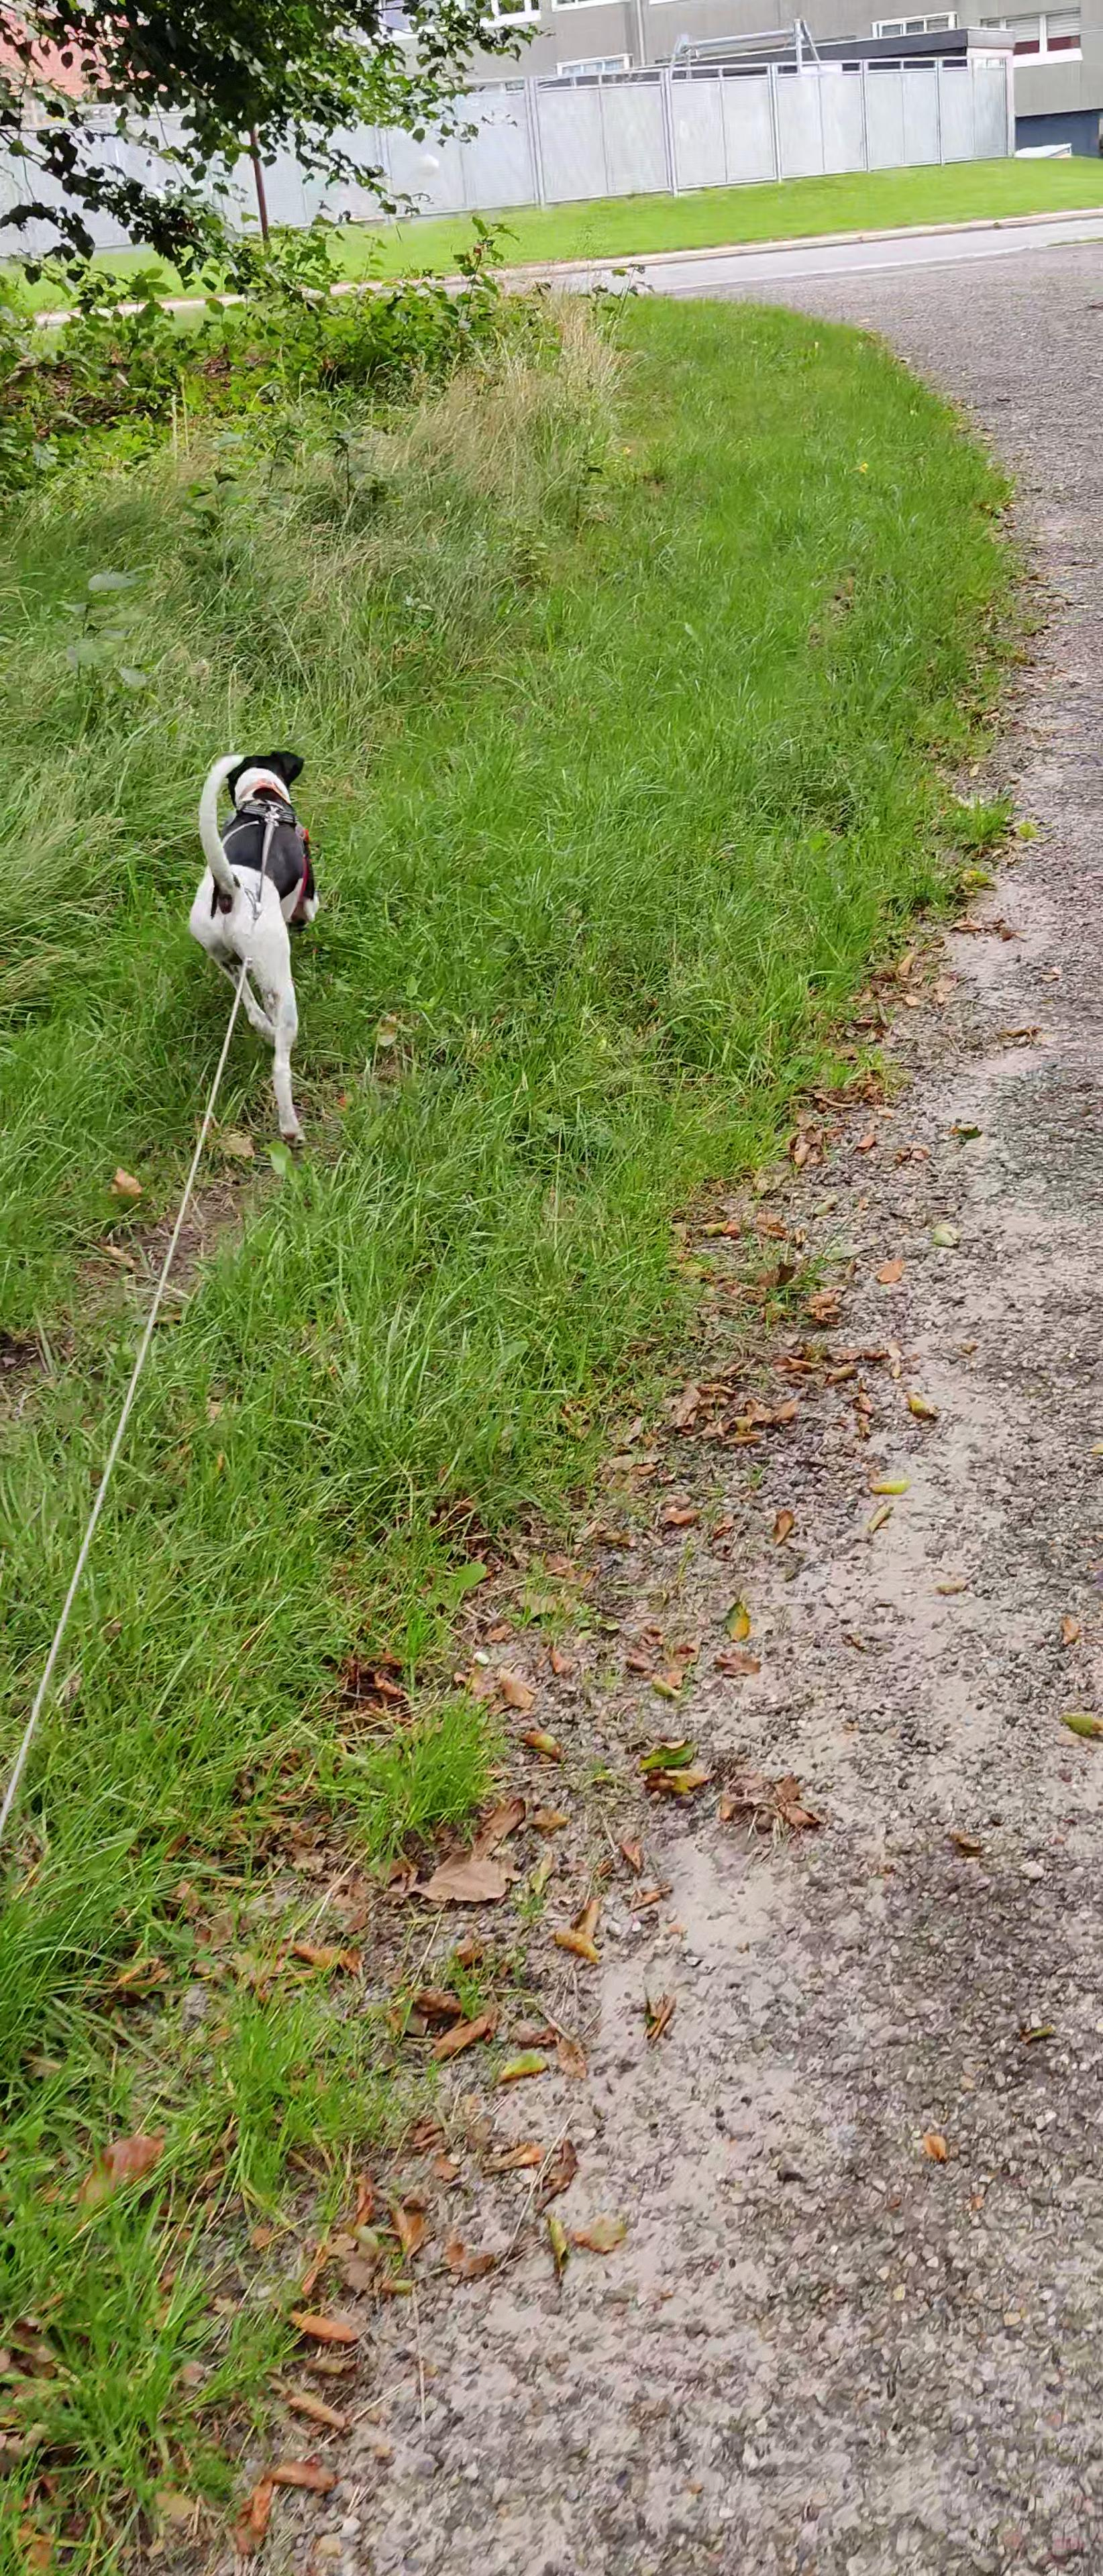Dog: (176, 739, 332, 1155)
